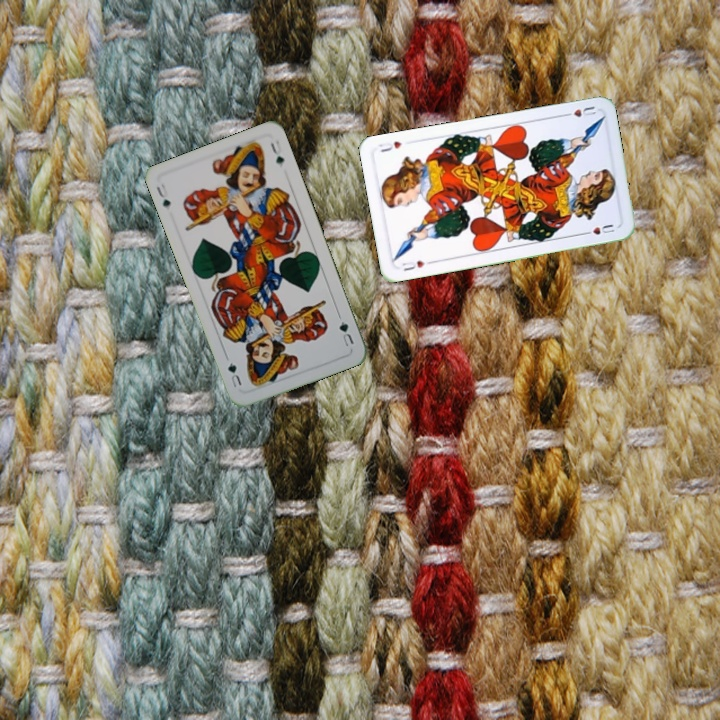GU: (334, 311, 356, 349), (152, 179, 173, 211)
HU: (559, 102, 599, 120), (398, 256, 435, 274)
